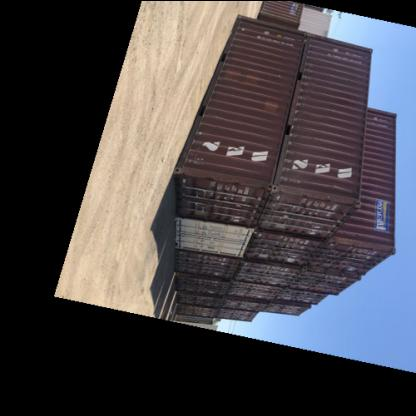Damage: (198, 167, 249, 183)
